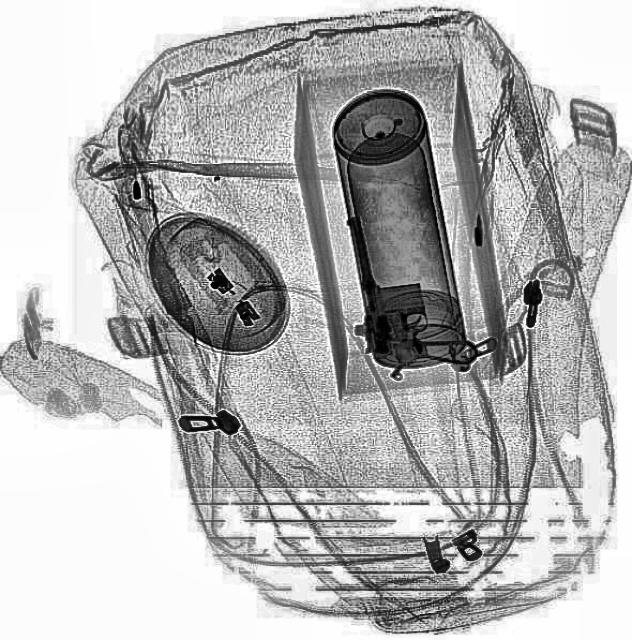Gun: (344, 202, 481, 384)
